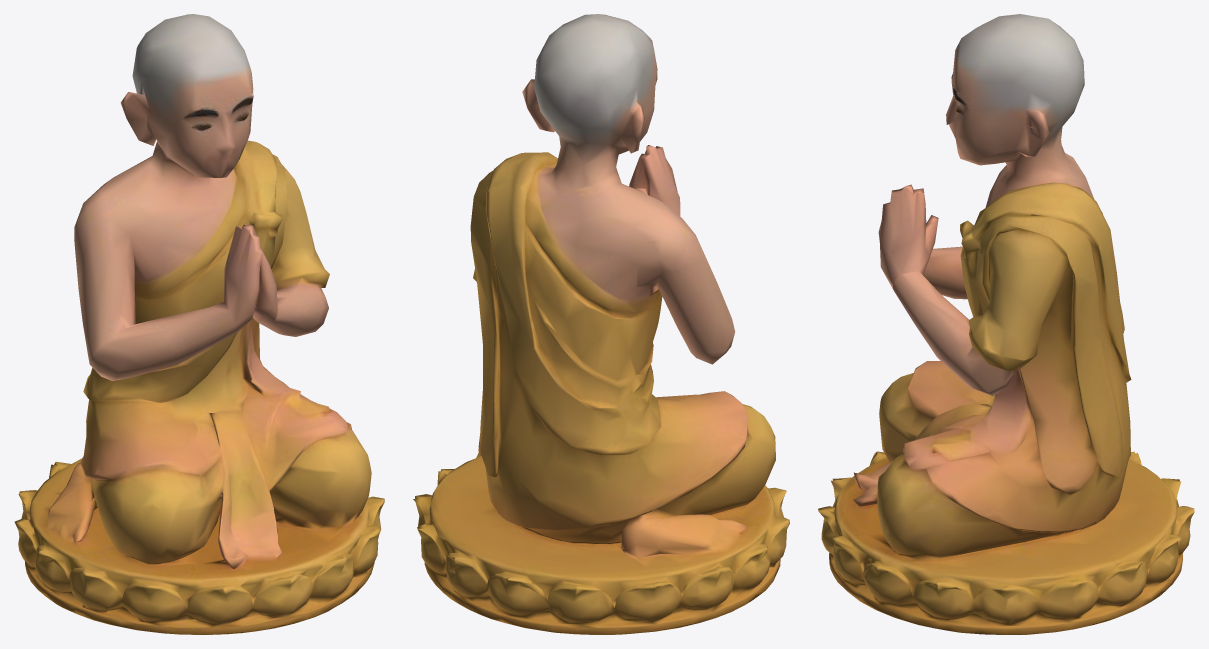
The model's file is disciple.glb.
The picture shows the model from 3 angles, left to right: view 1: azimuth 30°, elevation 25°; view 2: azimuth 150°, elevation 25°; view 3: azimuth 270°, elevation 25°; orthographic projection.
Parts seen in each view (by area): view 1: tripo_node_3e50f32c-1c95-4dc6-bc3e-ae113324ea62; view 2: tripo_node_3e50f32c-1c95-4dc6-bc3e-ae113324ea62; view 3: tripo_node_3e50f32c-1c95-4dc6-bc3e-ae113324ea62.
Part boxes in pixels (x1,y1,x2,y2): tripo_node_3e50f32c-1c95-4dc6-bc3e-ae113324ea62: (14, 14, 384, 634); tripo_node_3e50f32c-1c95-4dc6-bc3e-ae113324ea62: (413, 14, 789, 634); tripo_node_3e50f32c-1c95-4dc6-bc3e-ae113324ea62: (818, 14, 1194, 634).
Size of the model in its own units: 0.6271 by 1 by 0.6299.
Materials: 1 (1 with a texture image).
